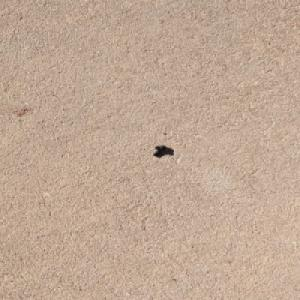BoltWasher: (151, 145, 169, 156)
